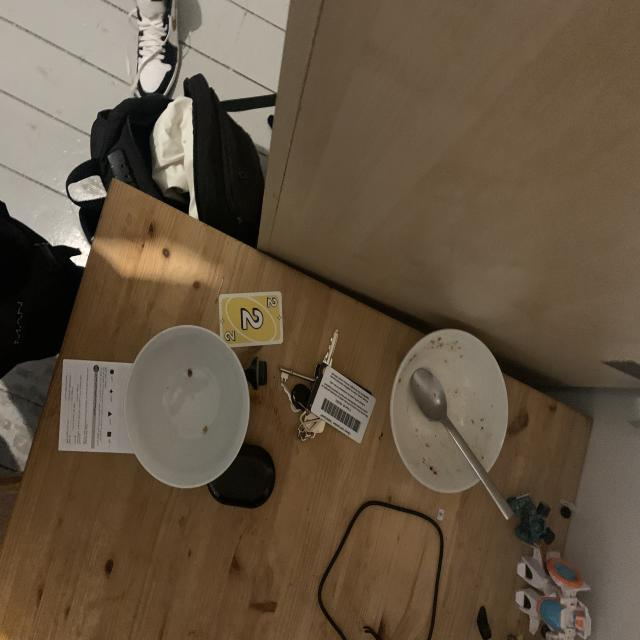lyellow-2: (263, 295, 279, 310)
